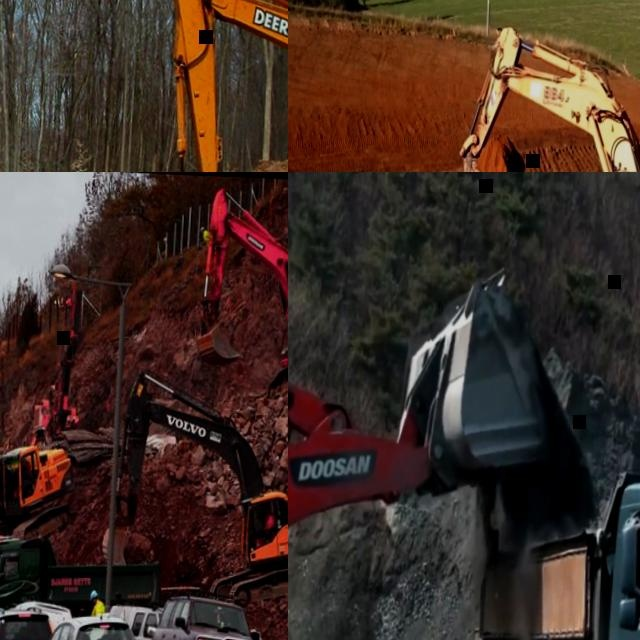Hardhat: (90, 590, 98, 599), (264, 507, 270, 512), (23, 459, 27, 465), (200, 226, 204, 231)
NO-Mask: (92, 599, 97, 605)
Person: (256, 506, 275, 546), (90, 590, 106, 615), (22, 458, 33, 478), (200, 225, 209, 242)
Safety Vest: (91, 600, 105, 616), (24, 461, 33, 477), (264, 513, 274, 527), (202, 229, 209, 240)
machinery: (288, 253, 565, 640), (100, 365, 288, 604), (475, 443, 640, 640), (453, 21, 640, 172), (155, 0, 288, 172), (192, 184, 288, 400), (0, 532, 162, 618), (0, 438, 88, 584), (30, 277, 86, 446)
vehicle: (148, 592, 274, 640), (30, 611, 147, 640), (105, 602, 164, 640), (13, 600, 73, 630)
